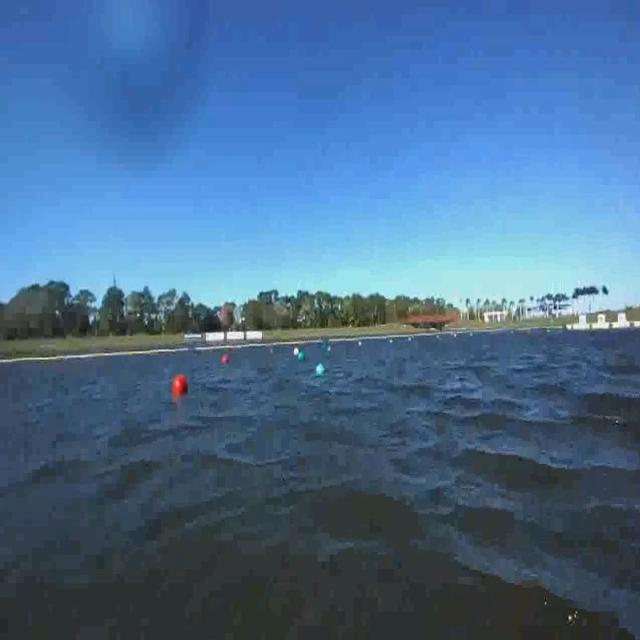green-buoy: (314, 359, 326, 379)
red-buoy: (170, 374, 191, 401)
